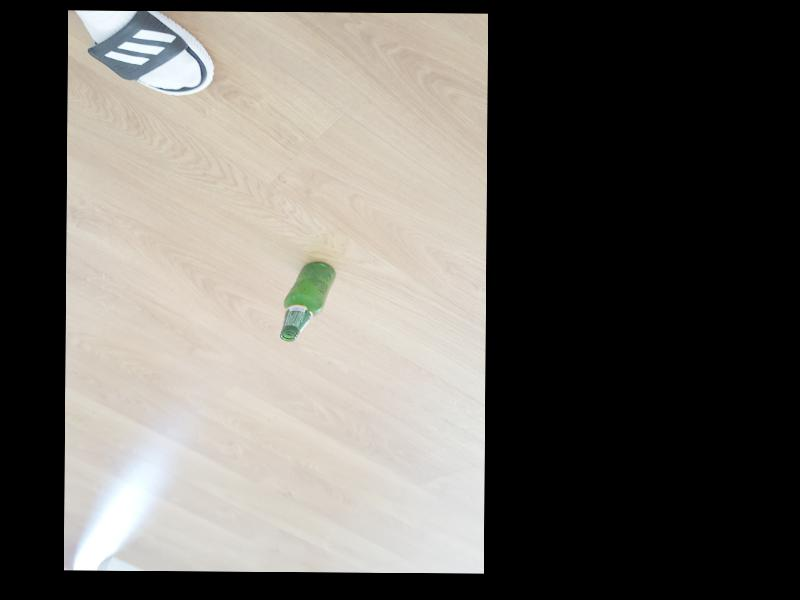Beer: (280, 261, 333, 340)
